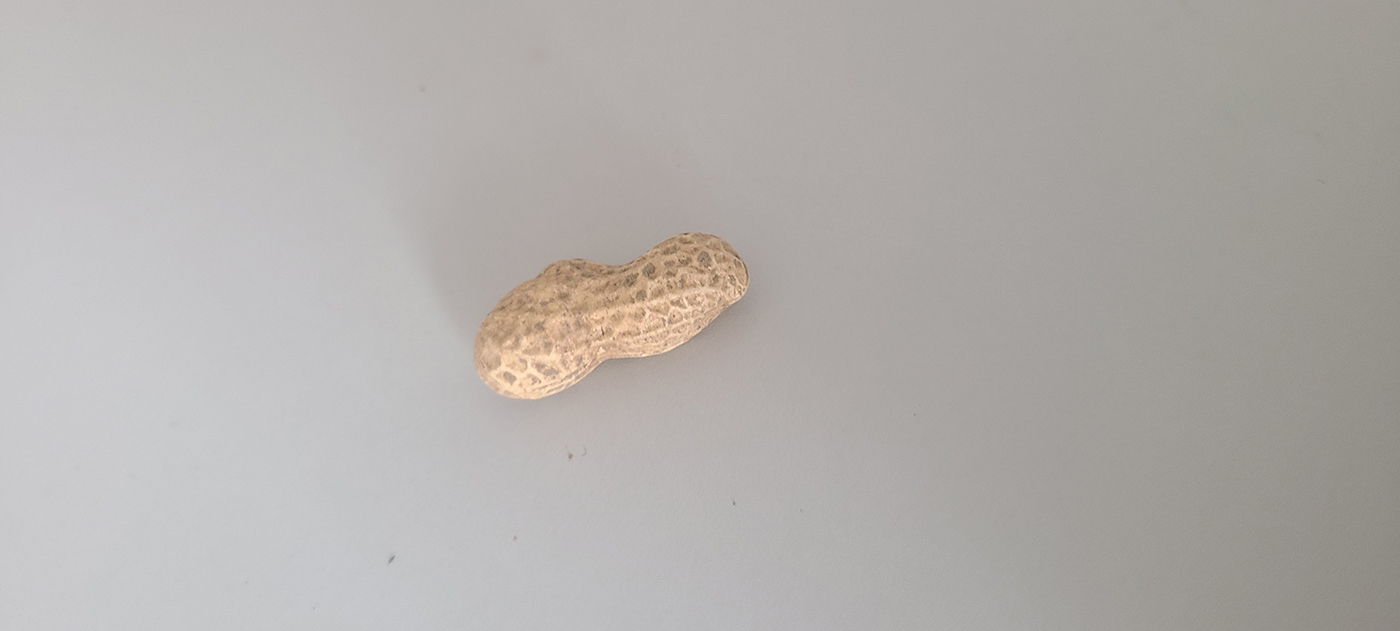h: (471, 227, 754, 399)
